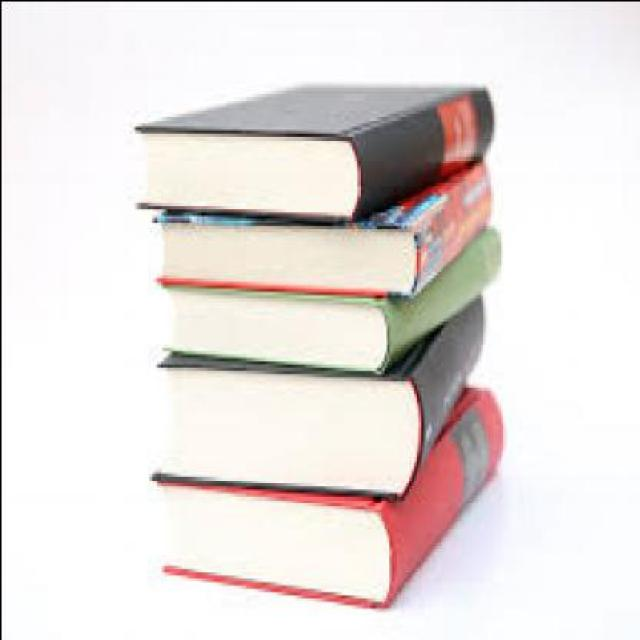PAPER: (156, 385, 504, 607), (151, 290, 486, 492), (160, 221, 502, 367), (135, 82, 492, 221), (148, 155, 492, 297)
